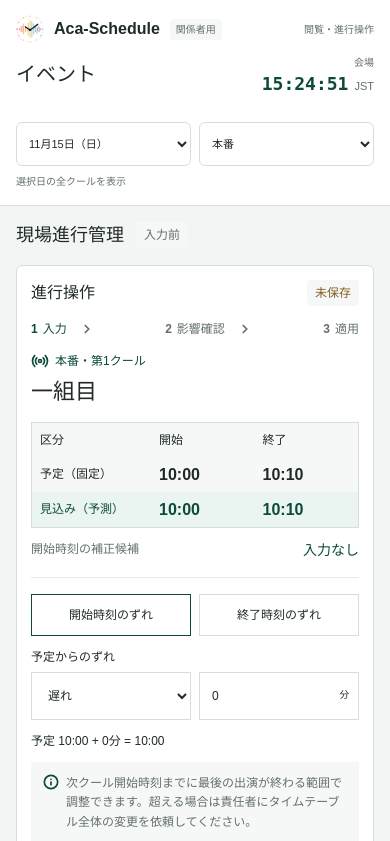
shows the transition-time limit before reviewing an early start
Select "早まり" in the dropdown named "ずれの方向": coordinates (111, 696) [31, 672, 191, 720]
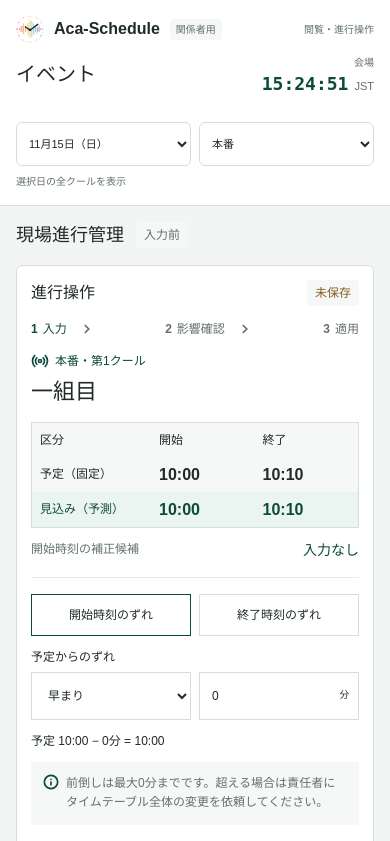
Replace the text in the number field named "予定からのずれ（分）" with "1": coordinates (279, 696) [199, 672, 359, 720]
(page scrolled)
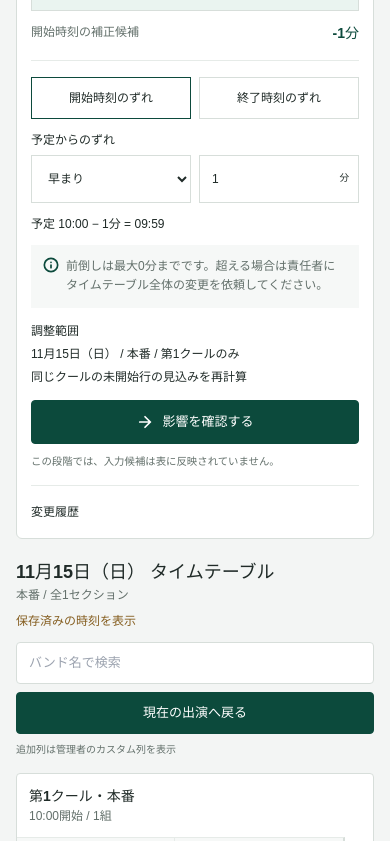
Click the button "影響を確認する": coordinates (195, 422) [31, 400, 359, 444]
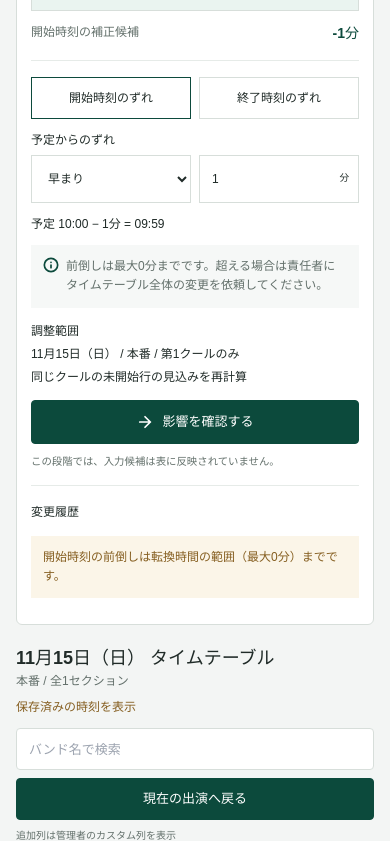
Now the message shows "最大0分", box [43, 550, 338, 583]
